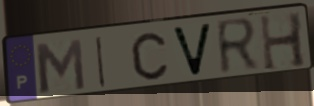C: (129, 30, 170, 82)
H: (257, 10, 309, 74)
I: (94, 34, 108, 90)
M: (31, 37, 88, 96)
R: (214, 15, 261, 78)
V: (169, 21, 215, 79)
